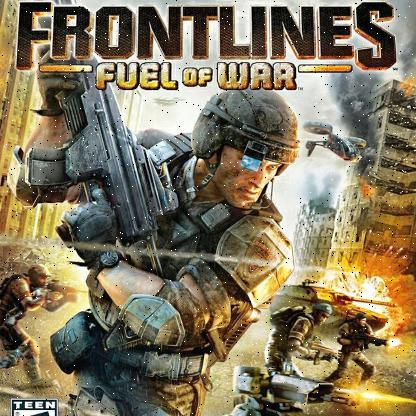gun: (23, 0, 176, 346)
